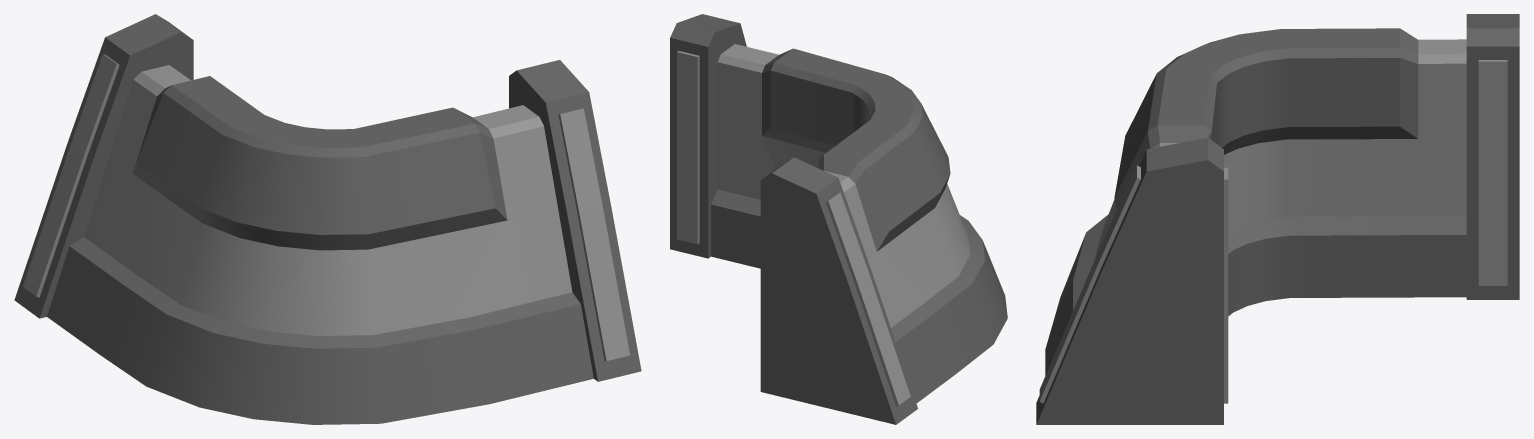
The model's file is Metal_Barrier_Corner.fbx.
3 renders of one model, left to right at view 1: azimuth 30°, elevation 25°; view 2: azimuth 150°, elevation 25°; view 3: azimuth 270°, elevation 25°, orthographic. The views are drawn at different scales.
Parts seen in each view (by area): view 1: Metal_Barrier_Corner; view 2: Metal_Barrier_Corner; view 3: Metal_Barrier_Corner.
Part boxes in pixels (x1=…): Metal_Barrier_Corner: x1=14, y1=14, x2=641, y2=424; Metal_Barrier_Corner: x1=670, y1=14, x2=1007, y2=424; Metal_Barrier_Corner: x1=1036, y1=14, x2=1519, y2=424.
Bounding box in the file's own units: 163 × 98.9 × 163.
